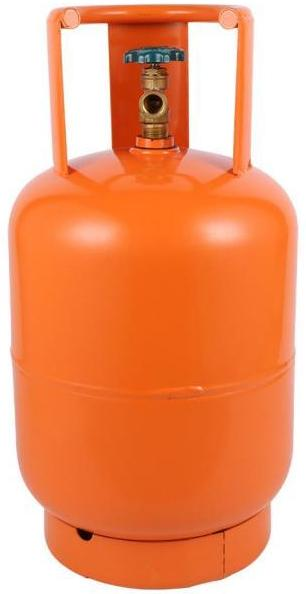cylinder: (1, 1, 306, 594)
